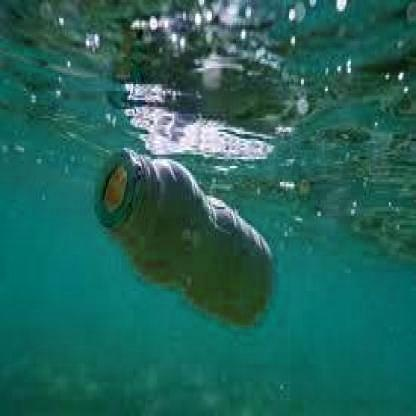pbottle: (83, 130, 280, 338)
